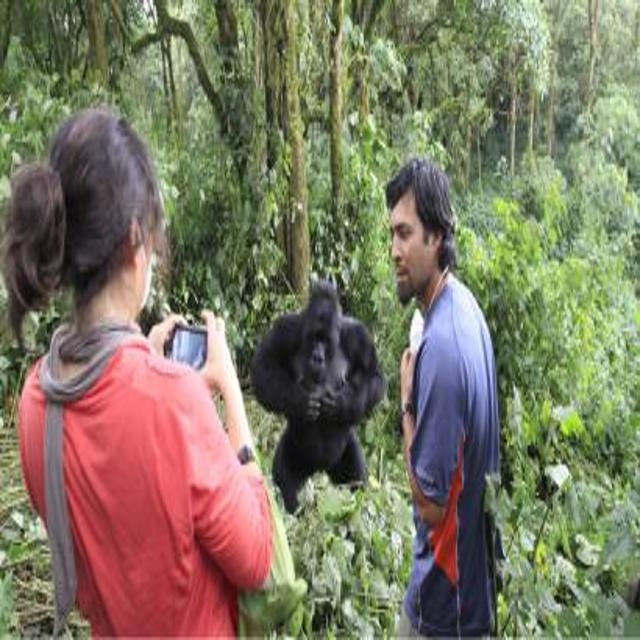Gorilla: (238, 246, 408, 522)
